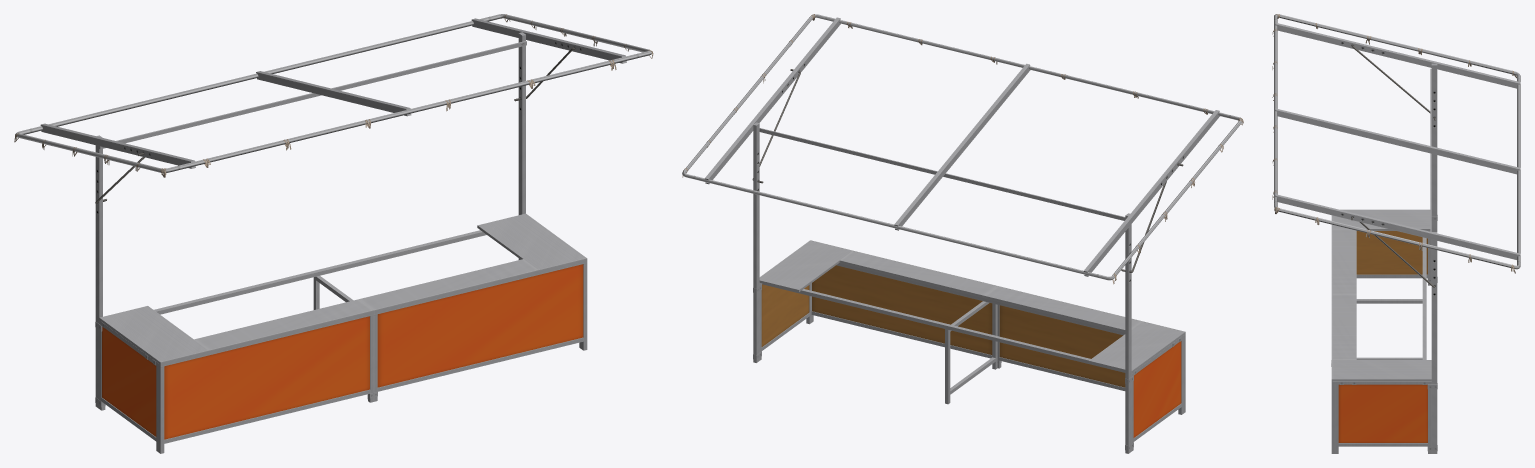
Rendered from jsf_2P_s04_c01_t03.fbx.
3 views of the same model, side by side, from view 1: azimuth 30°, elevation 25°; view 2: azimuth 150°, elevation 25°; view 3: azimuth 270°, elevation 25° (orthographic). The views are drawn at different scales.
Visible parts, largest first — view 1: Base_s04_c01, Pillar2_s04, Table_2P_s04_t03, Rope_2P_s04; view 2: Base_s04_c01, Pillar2_s04, Table_2P_s04_t03, Support; view 3: Pillar2_s04, Base_s04_c01, Table_2P_s04_t03, Support, Rope_2P_s04.
Boxes of the visible parts, x1=… form: Base_s04_c01: x1=95, y1=258, x2=587, y2=453; Pillar2_s04: x1=15, y1=14, x2=651, y2=408; Table_2P_s04_t03: x1=99, y1=213, x2=586, y2=365; Rope_2P_s04: x1=14, y1=14, x2=653, y2=177; Base_s04_c01: x1=753, y1=240, x2=1185, y2=451; Pillar2_s04: x1=682, y1=14, x2=1242, y2=453; Table_2P_s04_t03: x1=759, y1=240, x2=1184, y2=374; Support: x1=945, y1=301, x2=997, y2=404; Pillar2_s04: x1=1274, y1=14, x2=1520, y2=453; Base_s04_c01: x1=1331, y1=215, x2=1437, y2=453; Table_2P_s04_t03: x1=1332, y1=209, x2=1431, y2=384; Support: x1=1356, y1=299, x2=1422, y2=359; Rope_2P_s04: x1=1272, y1=14, x2=1516, y2=273.
Size of the model in its own units: 395 by 244 by 211.
